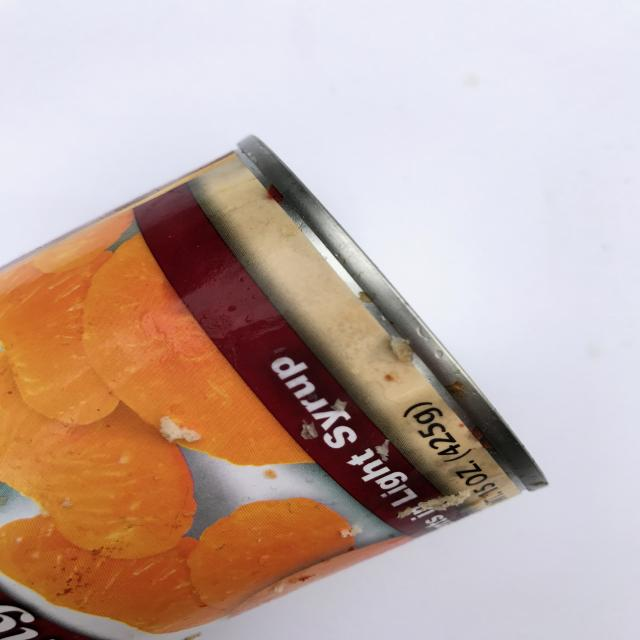Metal: (0, 118, 559, 640)
